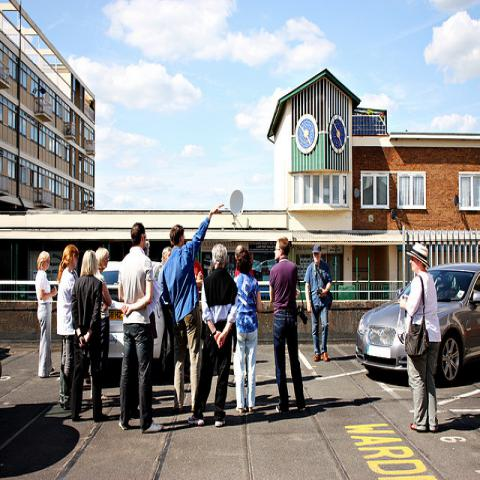car: (356, 260, 480, 386), (102, 260, 171, 378)
